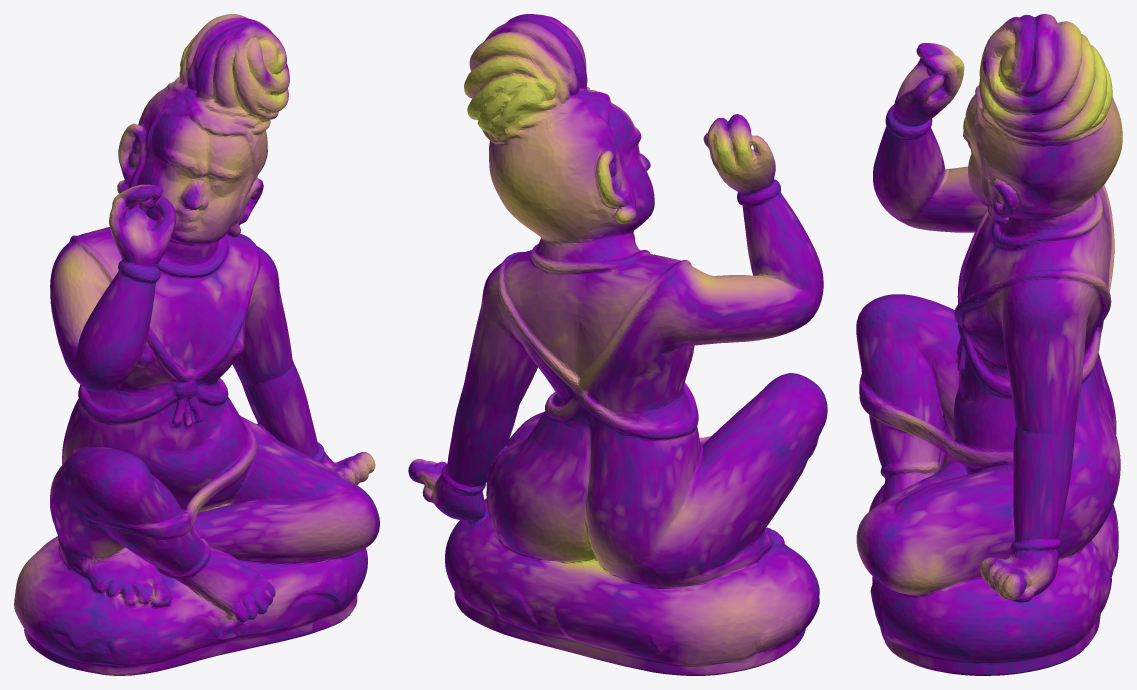
File: iter_15.glb
The picture shows the model from 3 angles, left to right: view 1: azimuth 30°, elevation 25°; view 2: azimuth 150°, elevation 25°; view 3: azimuth 270°, elevation 25°; orthographic projection. The views are drawn at different scales.
Visible parts, largest first — view 1: textured_mesh; view 2: textured_mesh; view 3: textured_mesh.
Boxes of the visible parts, bbox=[...] form: textured_mesh: bbox=[14, 14, 379, 675]; textured_mesh: bbox=[408, 14, 827, 675]; textured_mesh: bbox=[856, 14, 1122, 675].
Bounding box in the file's own units: 1.33 × 1.99 × 0.7835.
